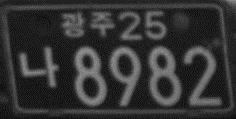2: (183, 44, 222, 109), (117, 10, 143, 42)
5: (144, 9, 166, 40)
8: (72, 45, 108, 106), (146, 45, 182, 106)
9: (109, 45, 142, 108)
광주_O: (59, 10, 116, 38)
나: (18, 44, 60, 90)
